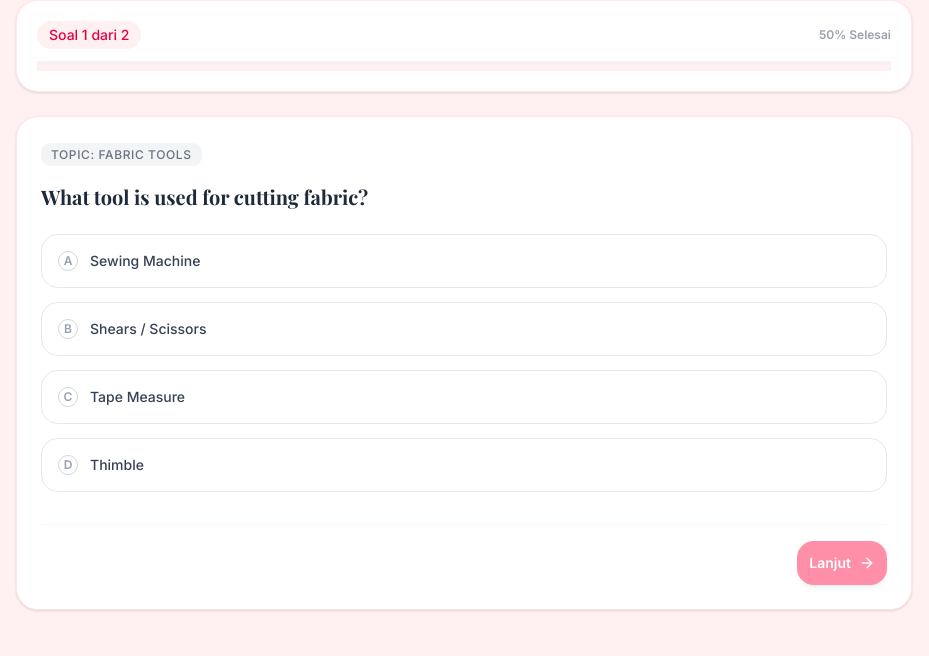
it: QuizEngine Component › should render passage on reading comprehension questions
Note: Go to next question
Click the text "Shears / Scissors" at [148, 329], box [90,320,206,338]
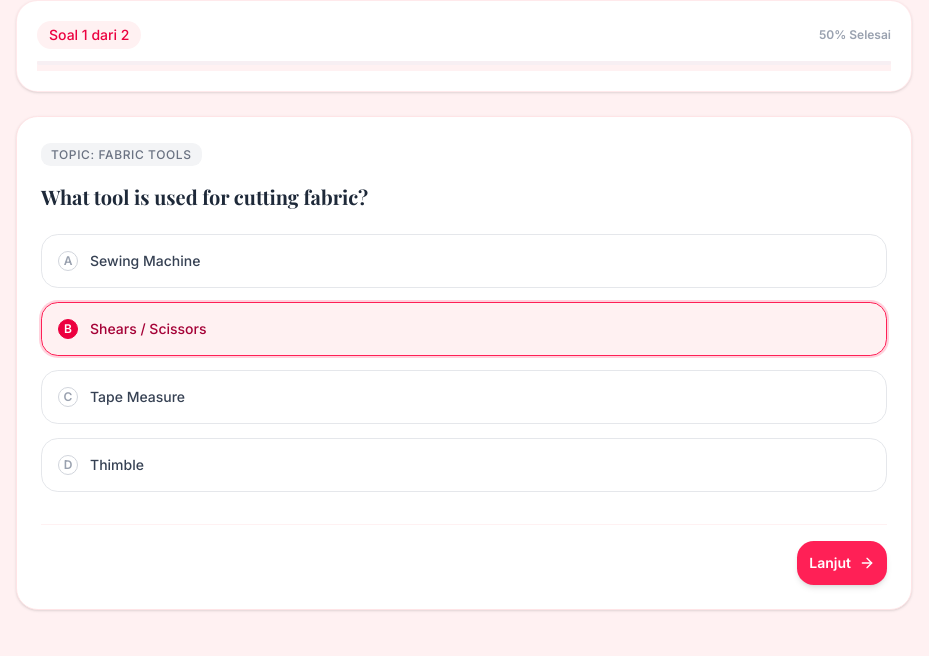
Click the button "Lanjut" at [842, 563], box [797,541,887,585]
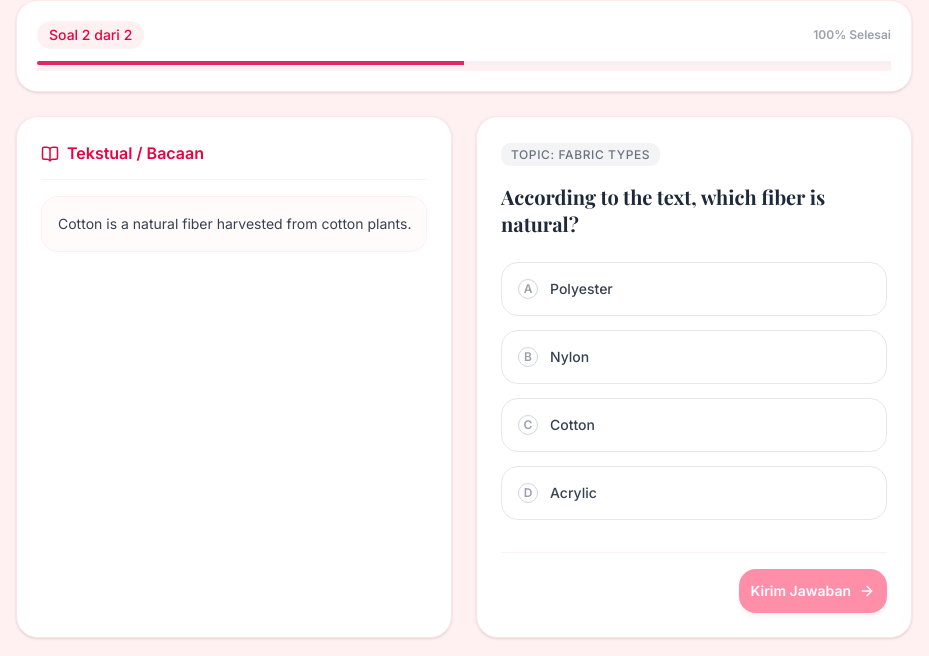
Expected: the heading "According to the text, which fiber is natural?" is shown, [501,183,825,237]
Expected: the text "Cotton is a natural fiber harvested from cotton plants." is shown, [41,196,427,252]
